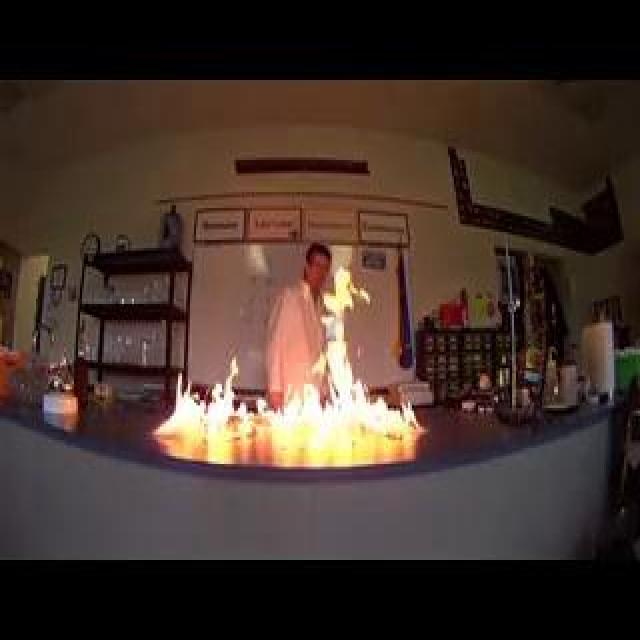Fire: (282, 86, 284, 398)
